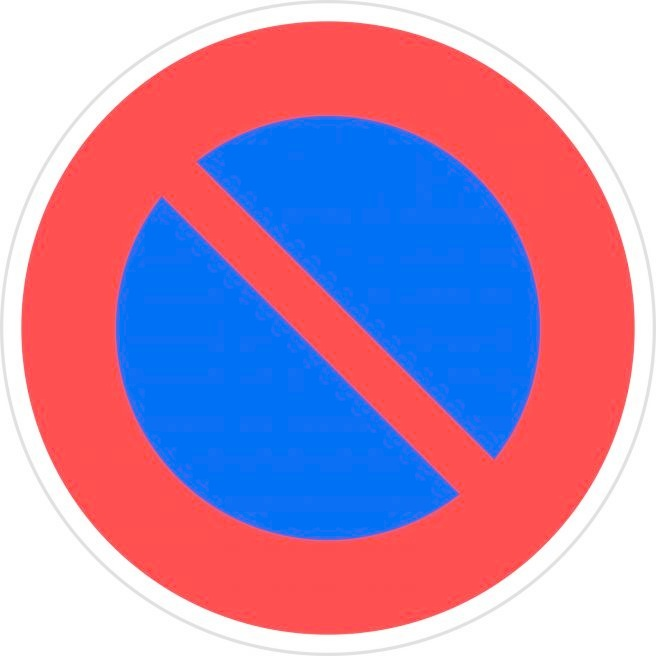Prohibition_sign: (10, 7, 652, 656)
